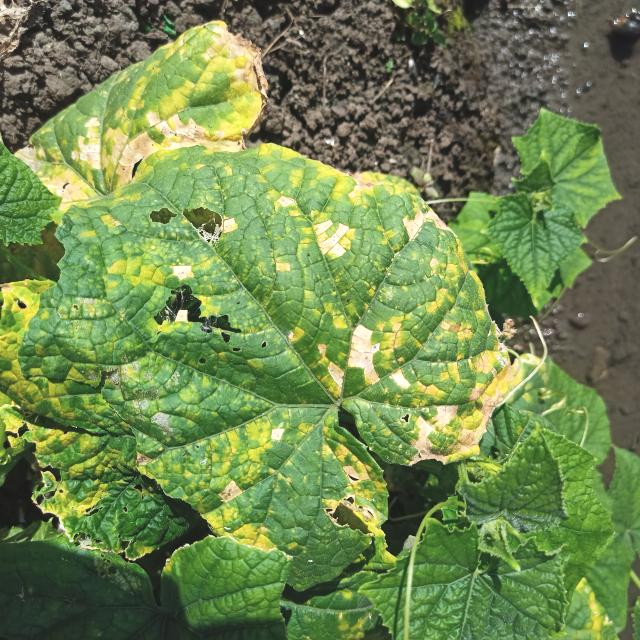disease_cucumber: (22, 155, 510, 565), (19, 23, 257, 215)
